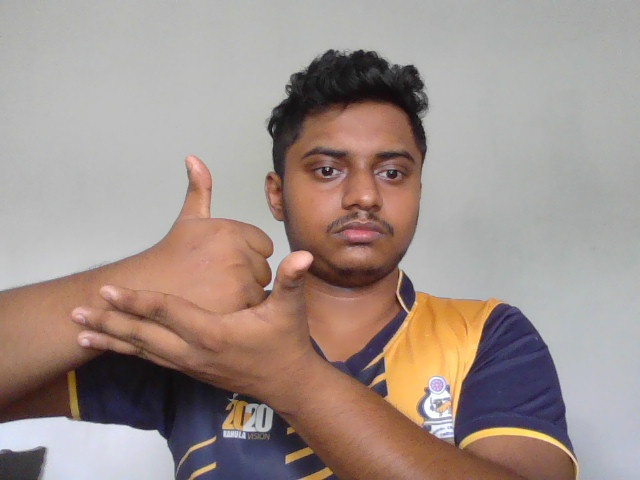Help: (71, 152, 315, 405)
